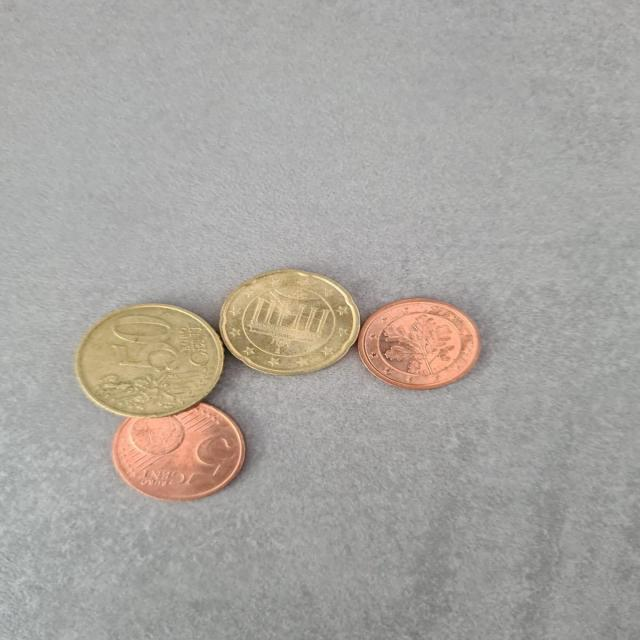1c: (359, 298, 480, 390)
20c: (219, 270, 362, 376)
50c: (74, 302, 224, 418)
5c: (111, 401, 245, 500)
